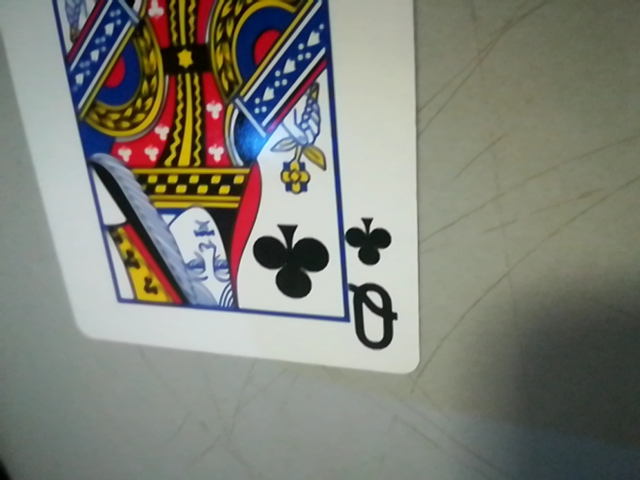mh q: (335, 208, 413, 363)
